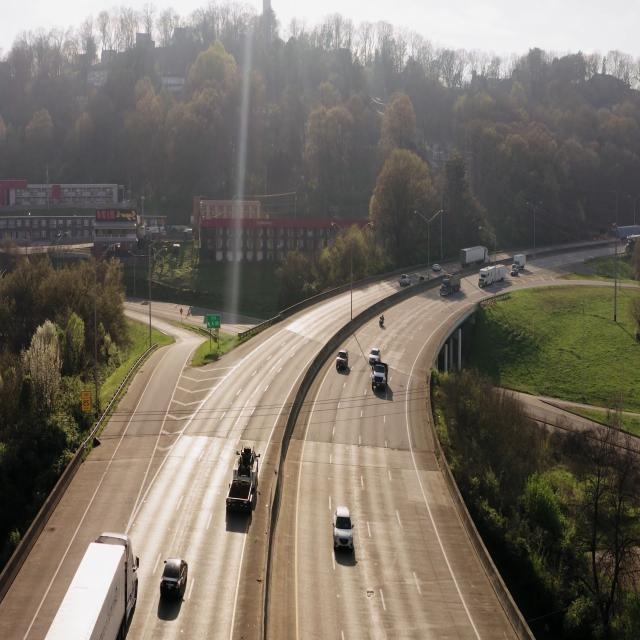Vehicle: (38, 531, 140, 640), (224, 444, 260, 520), (157, 554, 188, 605), (332, 507, 353, 556), (368, 362, 389, 393), (334, 348, 348, 373)
